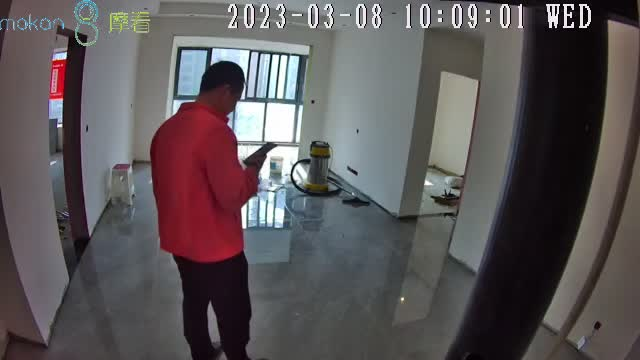people: (150, 60, 262, 360)
window: (172, 44, 305, 142)
